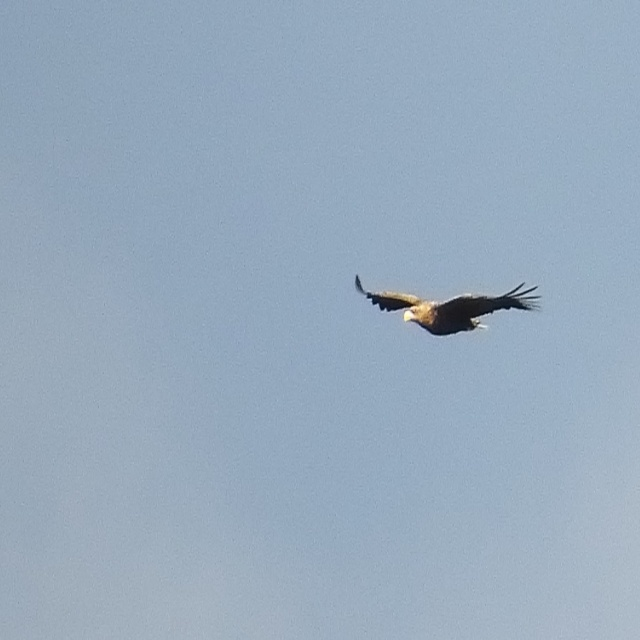Eagle: (354, 272, 549, 336)
